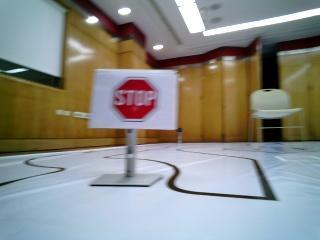stop: (97, 73, 169, 128)
